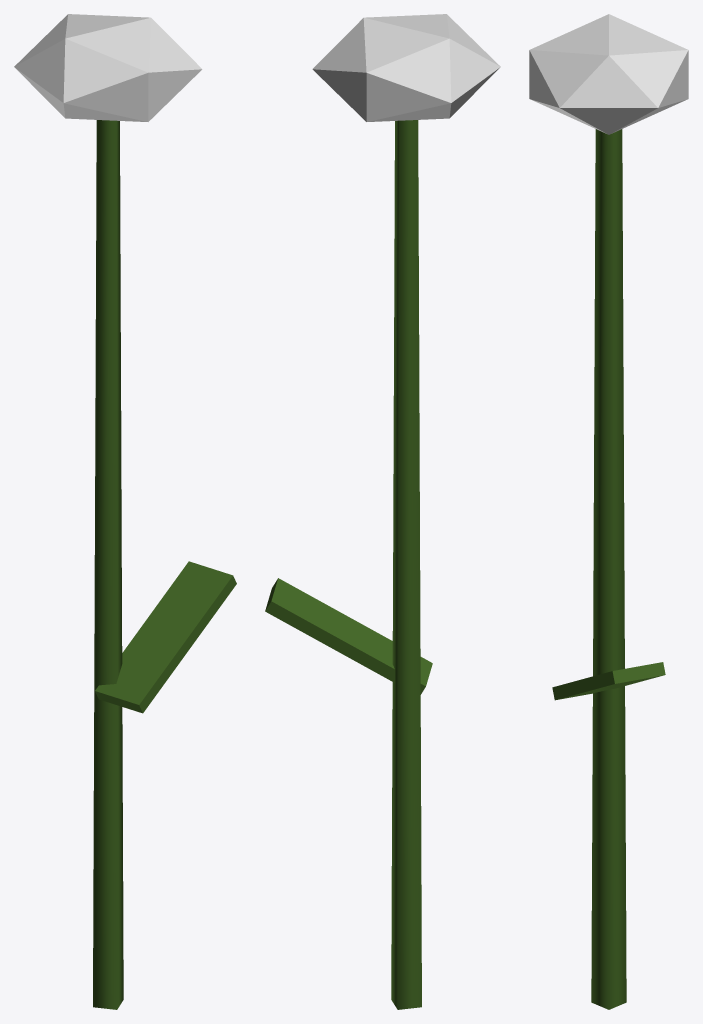
File: 1943-Street-furniture-wildflower.glb
3 renders of one model, left to right at view 1: azimuth 30°, elevation 25°; view 2: azimuth 150°, elevation 25°; view 3: azimuth 270°, elevation 25°, orthographic.
Parts seen in each view (by area): view 1: Street furniture/wildflower; view 2: Street furniture/wildflower; view 3: Street furniture/wildflower.
Boxes of the visible parts, x1,y1,x2,y2 form: Street furniture/wildflower: (14, 14, 236, 1009); Street furniture/wildflower: (265, 14, 500, 1009); Street furniture/wildflower: (529, 14, 688, 1009).
Size of the model in its own units: 0.2094 by 0.9698 by 0.1446.
